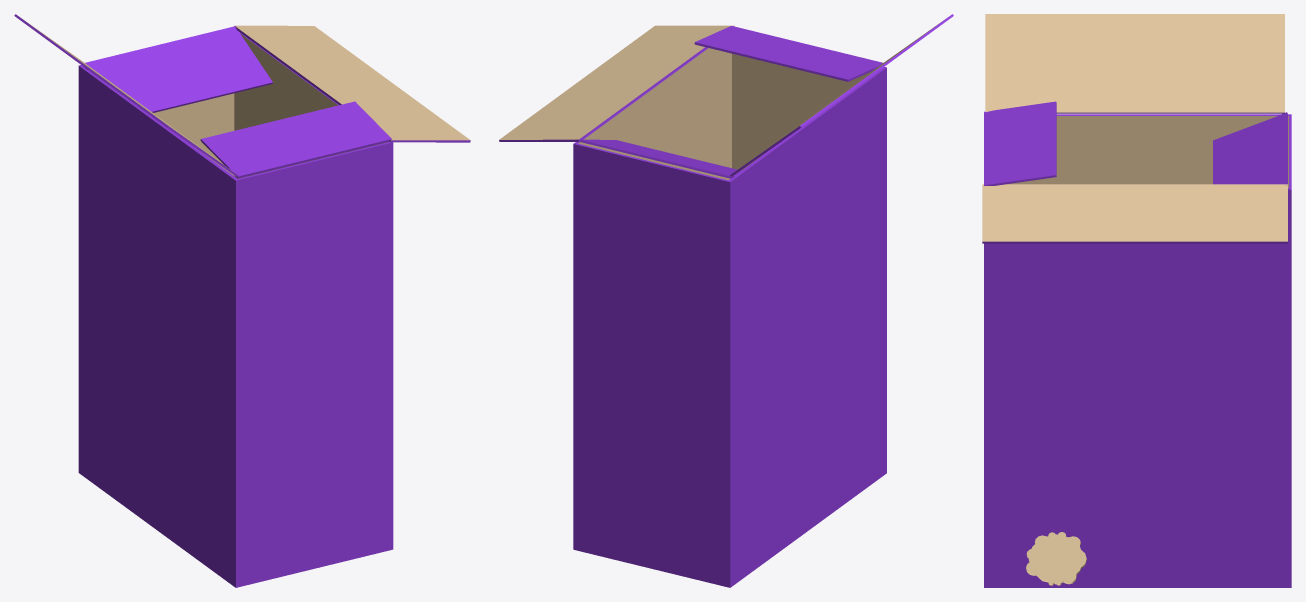
File: SM_CerealBox_1hole.fbx
3 views of the same model, side by side, from view 1: azimuth 30°, elevation 25°; view 2: azimuth 150°, elevation 25°; view 3: azimuth 270°, elevation 25° (orthographic). The views are drawn at different scales.
Parts seen in each view (by area): view 1: Cube.063, Cube.067, Cube.069, Cube.068, Cube.066; view 2: Cube.063, Cube.067, Cube.068, Cube.069, Cube.066; view 3: Cube.063, Cube.066, Cube.067, Cube.068, Cube.069.
Part boxes in pixels (left/top/right/bottom): Cube.063: left=78, top=33, right=393, bottom=587; Cube.067: left=234, top=25, right=470, bottom=142; Cube.069: left=85, top=26, right=272, bottom=112; Cube.068: left=200, top=101, right=391, bottom=178; Cube.066: left=14, top=14, right=238, bottom=176; Cube.063: left=573, top=48, right=886, bottom=587; Cube.067: left=499, top=25, right=734, bottom=141; Cube.068: left=694, top=26, right=882, bottom=81; Cube.069: left=577, top=139, right=741, bottom=178; Cube.066: left=730, top=14, right=953, bottom=176; Cube.063: left=984, top=114, right=1291, bottom=587; Cube.066: left=985, top=14, right=1284, bottom=113; Cube.067: left=982, top=184, right=1287, bottom=243; Cube.068: left=984, top=101, right=1056, bottom=185; Cube.069: left=1213, top=112, right=1287, bottom=185.
Size of the model in its own units: 1474 by 2229 by 1339.
